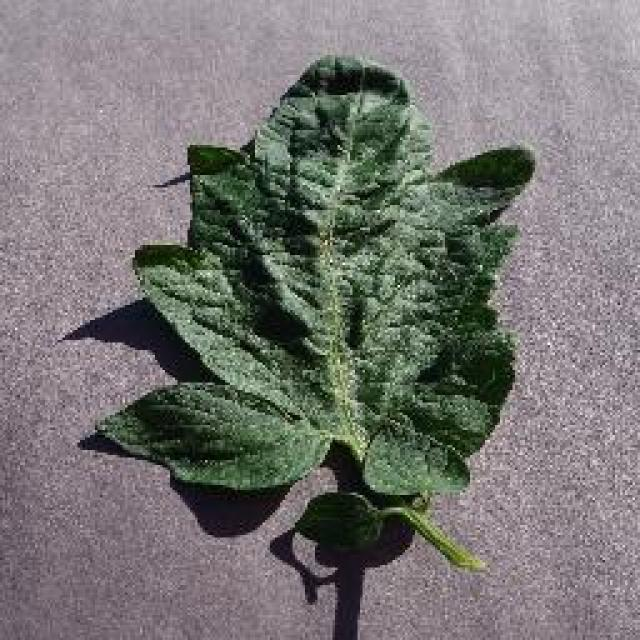Tomato Septoria spot leaf: (94, 52, 534, 502)
